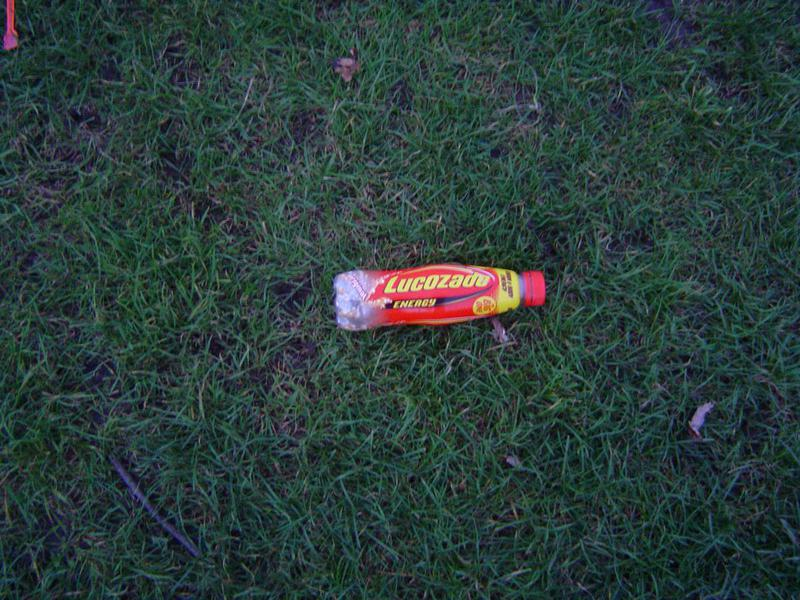bottle: (325, 257, 551, 334)
